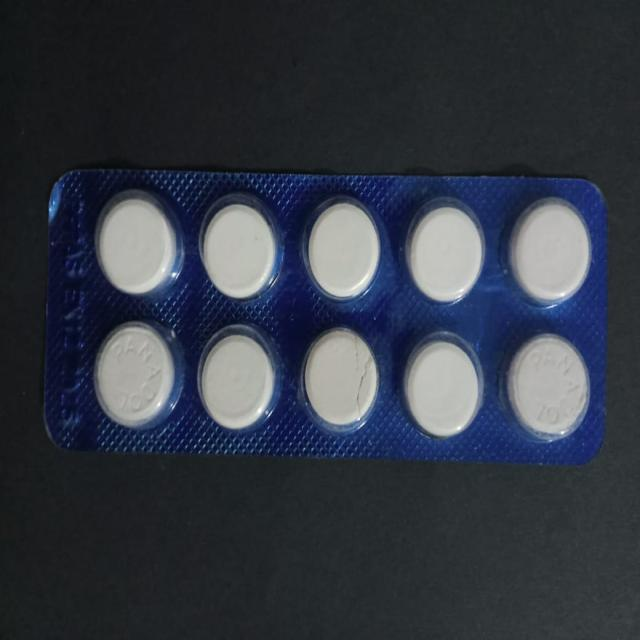defect: (303, 326, 382, 432)
